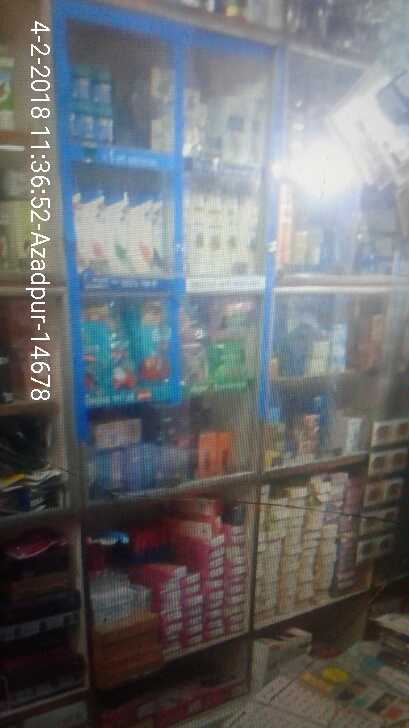vicks: (67, 61, 116, 142)
